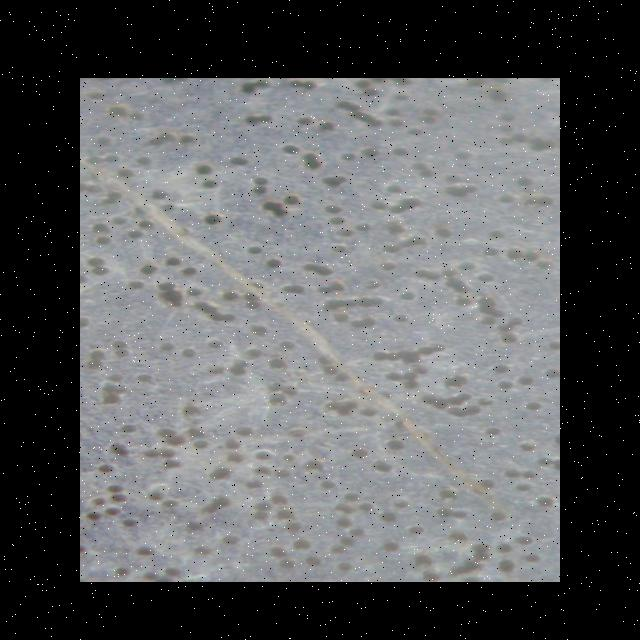Fibre: (80, 120, 492, 506)
